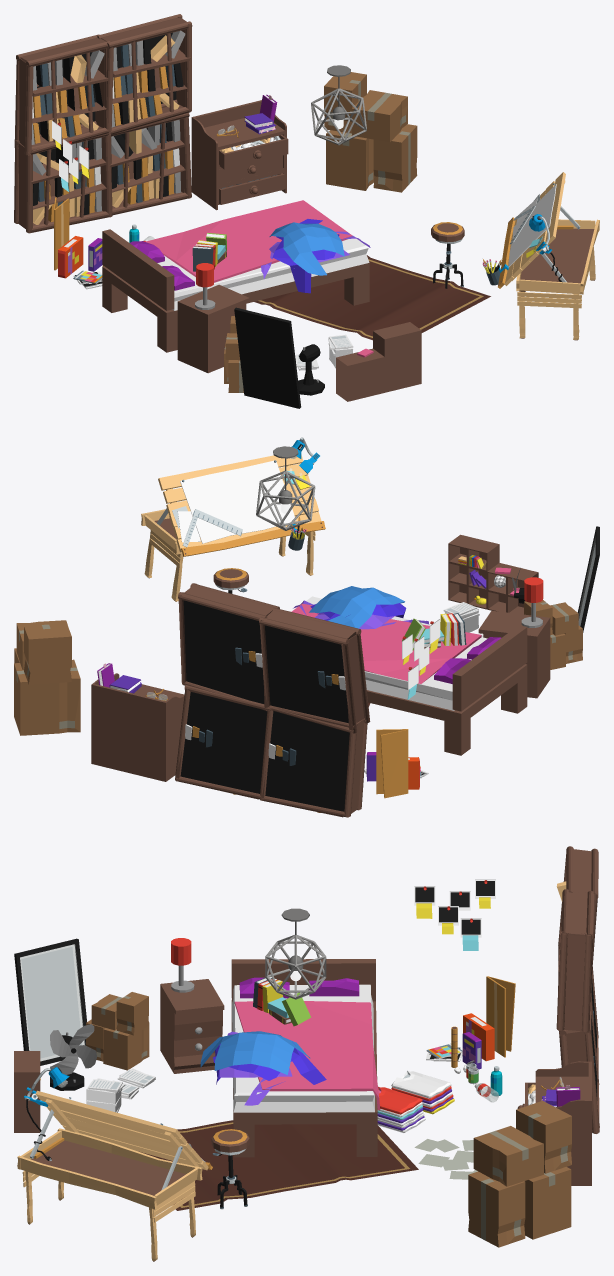
The model's file is room 2.glb.
3 renders of one model, top to bottom at view 1: azimuth 30°, elevation 25°; view 2: azimuth 150°, elevation 25°; view 3: azimuth 270°, elevation 25°, orthographic. The views are drawn at different scales.
Visible parts, largest first — view 1: BED, bookshelf, Carpet_1, CardboardBoxes_4, group1140854425, frame, other shelf, bedside table, group578319498, shelf, clothes, Light_Icosahedron (+22 smaller); view 2: BED, group1140854425, bookshelf, CardboardBoxes_4, group505671632, group466765990, group1699351704, group503491970, other shelf, bedside table, desks, CardboardBoxes_4.001 (+16 smaller); view 3: BED, CardboardBoxes_4, Carpet_1, frame, bedside table, desks, bookshelf, CardboardBoxes_4.001, group578319498, clothes, frame 2, Light_Icosahedron (+22 smaller).
Boxes of the visible parts, x1,y1,x2,y2 form: BED: (102,200,369,352); bookshelf: (97,14,192,135); Carpet_1: (254,255,490,340); CardboardBoxes_4: (324,72,417,192); group1140854425: (14,121,112,233); frame: (234,307,301,408); other shelf: (336,322,421,401); bedside table: (177,263,249,373); group578319498: (520,228,594,283); shelf: (204,118,288,169); clothes: (269,222,344,275); Light_Icosahedron: (311,65,366,145); BED: (291,596,527,755); group1140854425: (259,706,367,817); bookshelf: (178,583,279,711); CardboardBoxes_4: (14,620,80,735); group505671632: (180,692,267,793); group466765990: (91,683,167,781); group1699351704: (264,625,348,723); group503491970: (180,460,296,543); other shelf: (448,534,538,614); bedside table: (478,577,550,698); desks: (158,454,321,552); CardboardBoxes_4.001: (524,600,582,669); BED: (231,959,380,1157); CardboardBoxes_4: (468,1100,571,1247); Carpet_1: (139,1120,418,1210); frame: (14,938,86,1065); bedside table: (160,938,224,1073); desks: (35,1090,208,1170); bookshelf: (556,889,594,1032); CardboardBoxes_4.001: (86,992,149,1070); group578319498: (31,1140,185,1195); clothes: (200,1031,310,1074); frame 2: (414,879,495,950); Light_Icosahedron: (265,908,326,999).
Size of the model in its own units: 2.02 by 1.03 by 2.24.
Materials: 113 (1 with a texture image).
